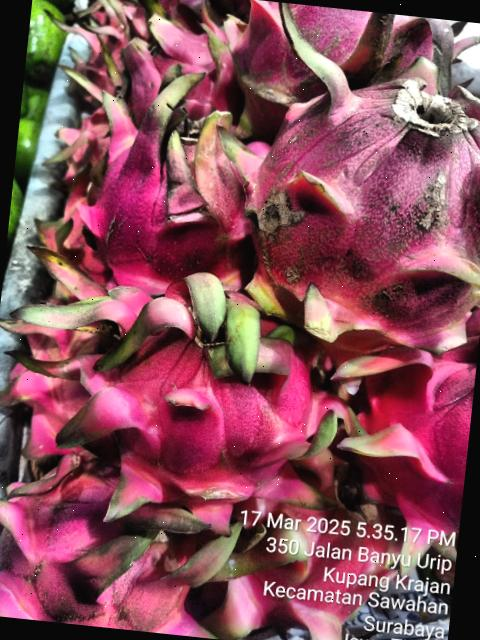buah-naga-matang: (5, 248, 352, 530), (229, 14, 480, 392), (0, 435, 226, 638), (65, 80, 259, 286), (338, 338, 478, 572)
